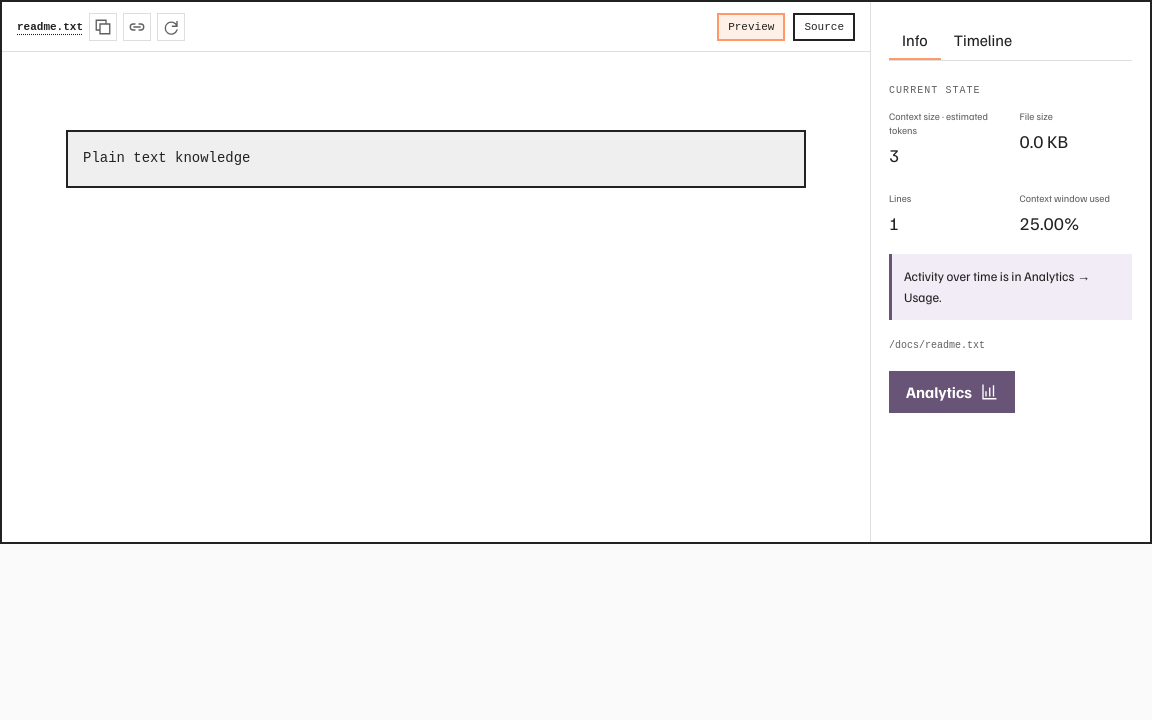
Test case: refresh replaces stale file content in preview mode
expect the text "Plain text knowledge" is shown: met, box [66, 130, 806, 188]
Click the button named "Refresh file".
click(171, 26)  # box [157, 12, 185, 40]
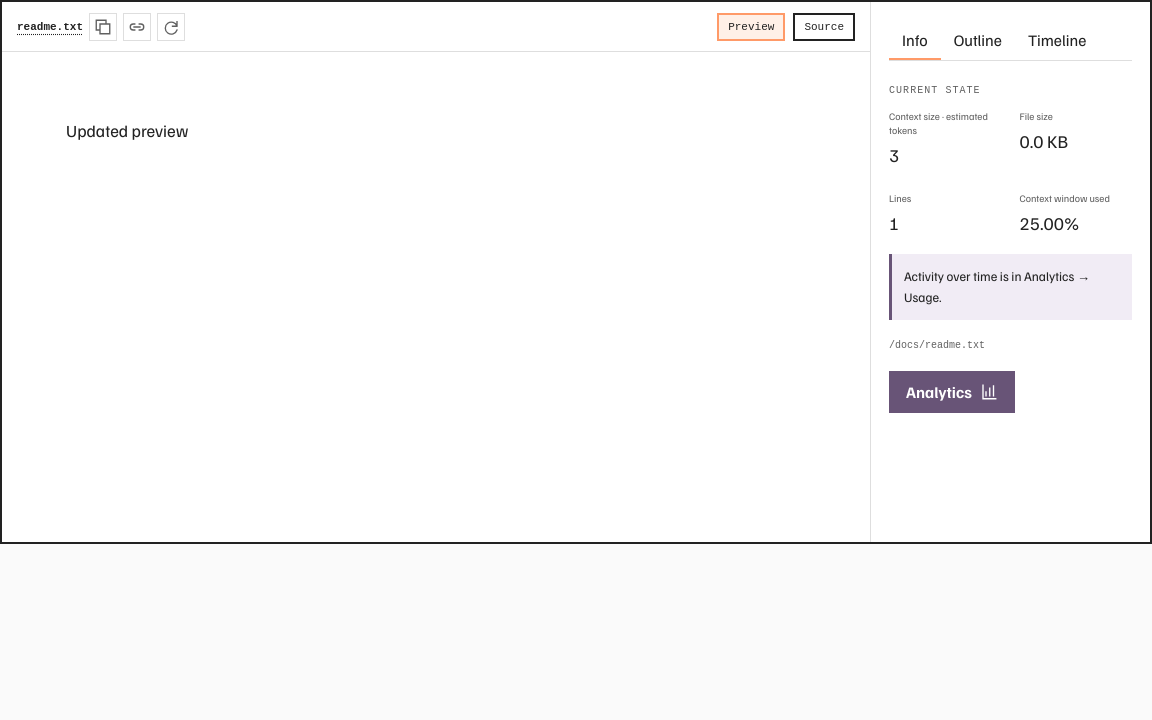
expect the text "Updated preview" is shown: met, box [66, 120, 188, 141]
expect the text "Plain text knowledge" is gone: met
